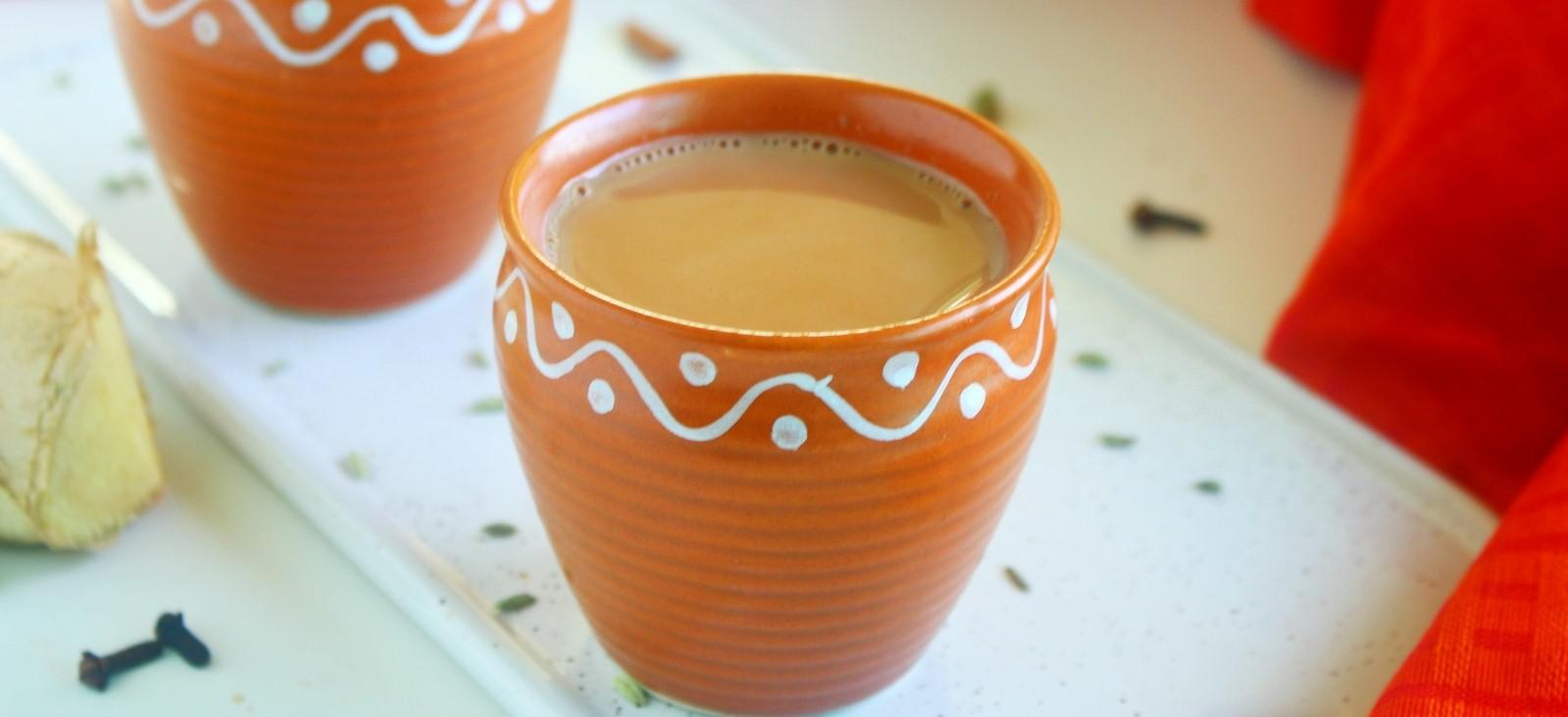Chai: (534, 132, 1012, 332)
